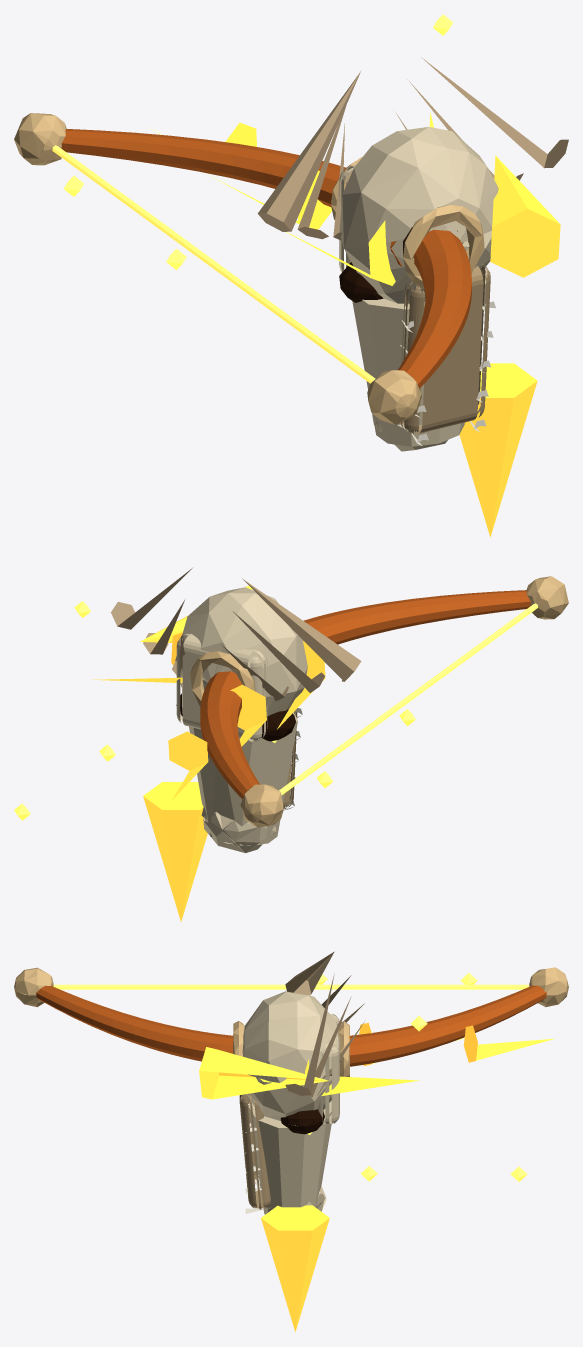
Rendered from dragonwing_bow.glb.
3 renders of one model, top to bottom at view 1: azimuth 30°, elevation 25°; view 2: azimuth 150°, elevation 25°; view 3: azimuth 270°, elevation 25°, orthographic. The views are drawn at different scales.
Visible parts, largest first — view 1: dragonwing_bow; view 2: dragonwing_bow; view 3: dragonwing_bow.
Part boxes in pixels (x1=…): dragonwing_bow: x1=14, y1=14, x2=568, y2=537; dragonwing_bow: x1=14, y1=568, x2=568, y2=921; dragonwing_bow: x1=14, y1=951, x2=568, y2=1331.
Bounding box in the file's own units: 1.17 × 1.37 × 1.99.
